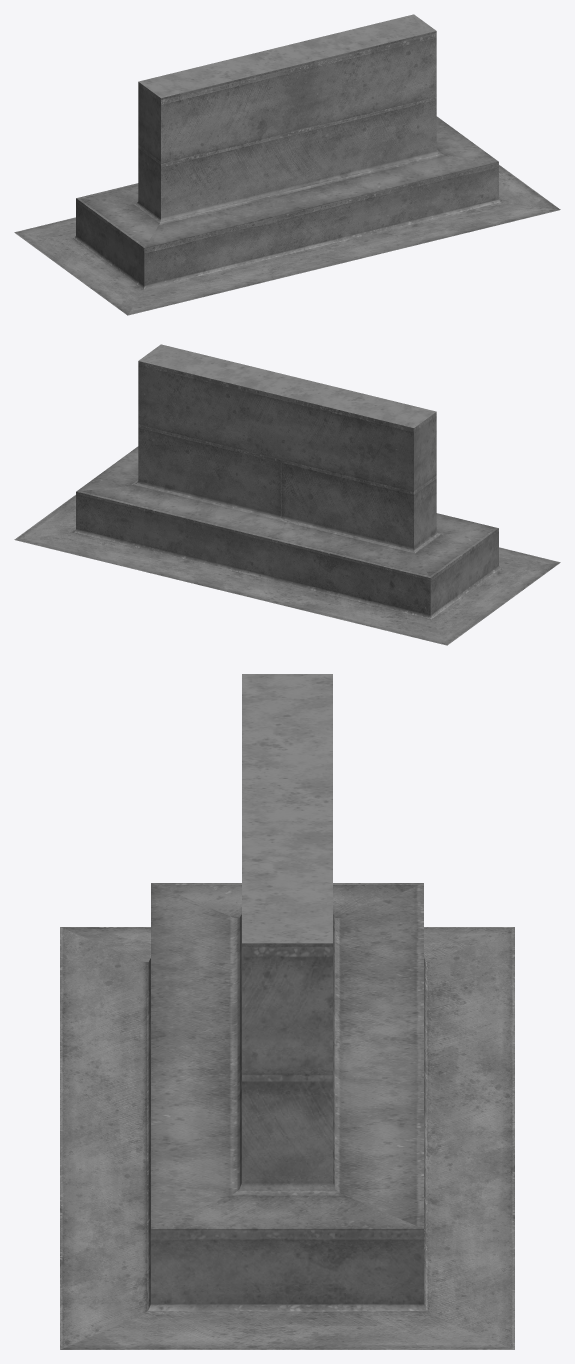
The model's file is SM_Ceiling_10.fbx.
The picture shows the model from 3 angles, top to bottom: view 1: azimuth 30°, elevation 25°; view 2: azimuth 150°, elevation 25°; view 3: azimuth 270°, elevation 25°; orthographic projection. The views are drawn at different scales.
Visible parts, largest first — view 1: SM_Ceiling_10; view 2: SM_Ceiling_10; view 3: SM_Ceiling_10.
Boxes of the visible parts, left/top/right/bottom form: SM_Ceiling_10: left=14, top=14, right=560, bottom=315; SM_Ceiling_10: left=14, top=344, right=560, bottom=645; SM_Ceiling_10: left=60, top=674, right=514, bottom=1349.
Bounding box in the file's own units: 367 × 133 × 167.
